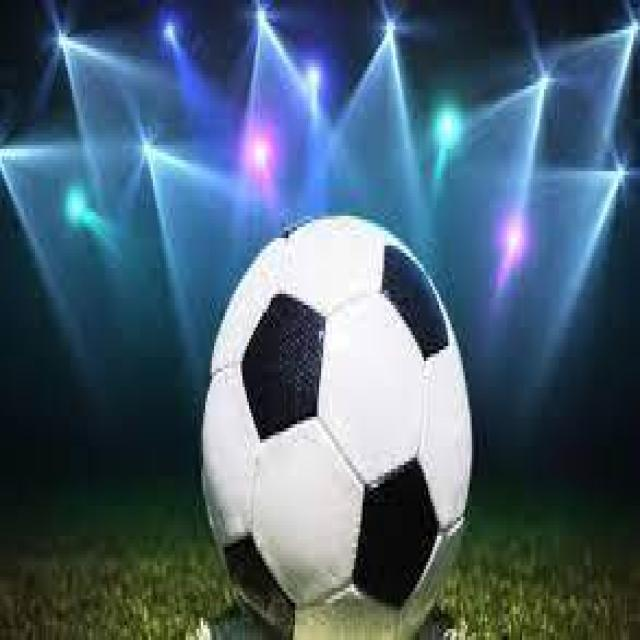ball: (195, 210, 473, 640)
